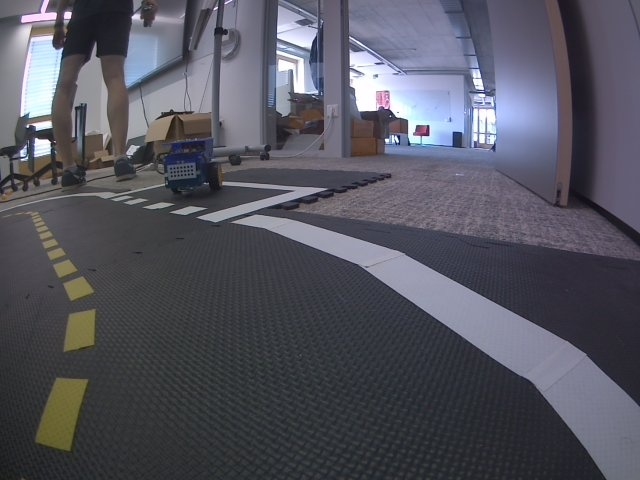Bot: (155, 136, 223, 197)
occupiedSlot: (105, 179, 329, 224)
